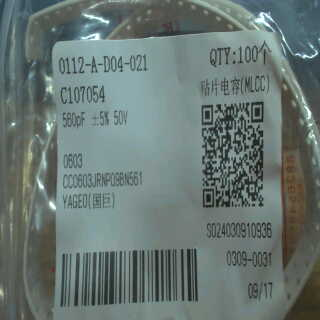560pF: (60, 105, 85, 136)
